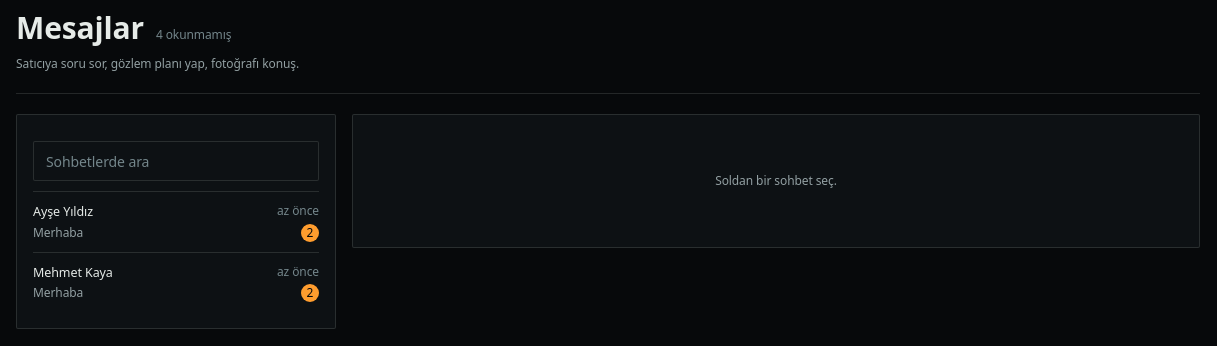
Test case: sohbet listesi › arama karşı tarafın adına göre süzer
This screenshot has width=1217, height=346.
Step 1. Type "mehmet" into the search field labelled "Sohbetlerde ara" → x=176, y=161, box [33,141,319,181]
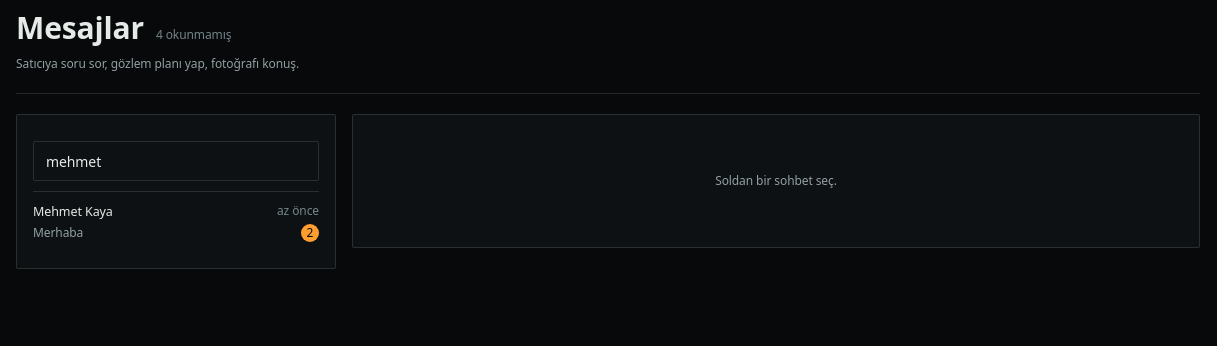
Expected: the text "Mehmet Kaya" is shown, [33,202,113,222]
Expected: the link "Ayşe Yıldız" is gone
